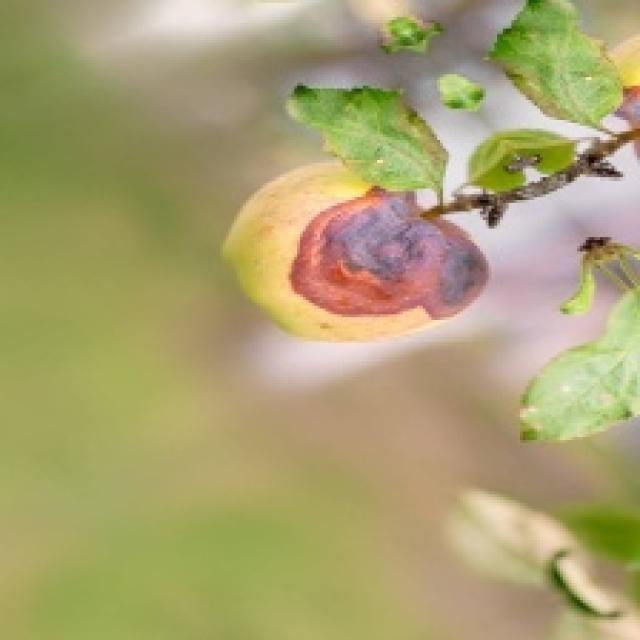rotten_apple: (226, 161, 490, 330)
